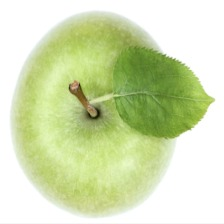apple: (19, 41, 175, 200)
